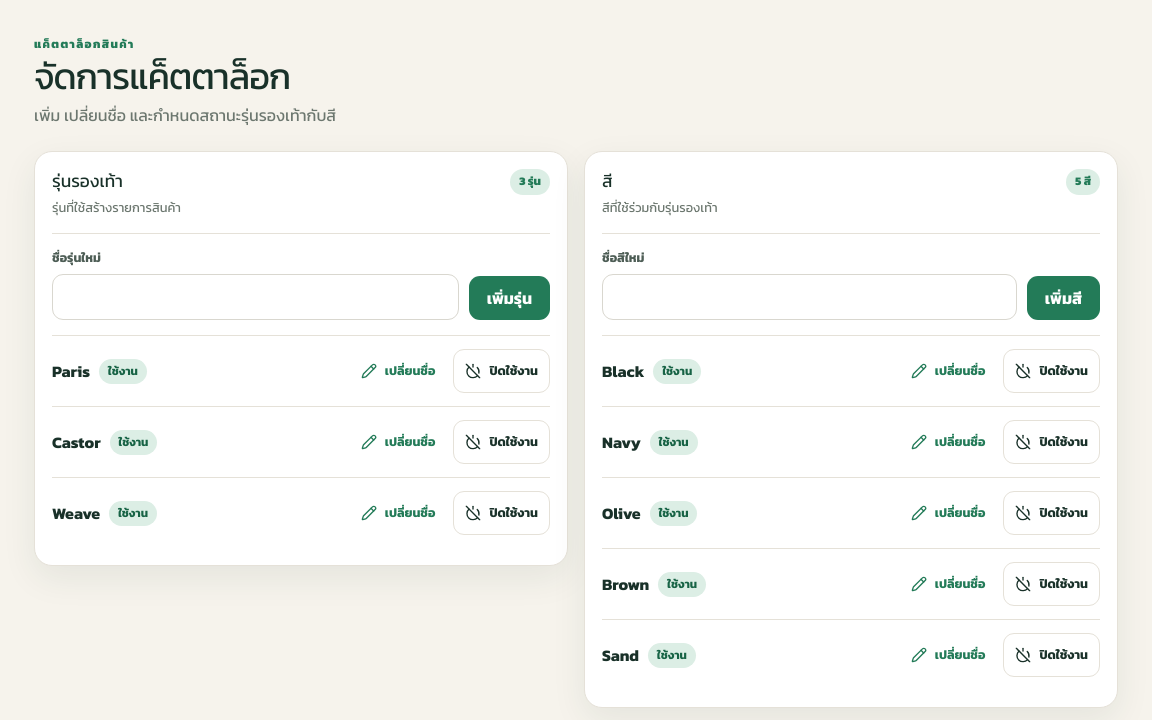
Test: CatalogPage › announces a failed deactivation as an error, keeps the confirmation open, and allows retry
Check: the text "Paris" is shown, box top-left (52, 359), bottom-right (90, 383)
Click the button with aria-label "ปิดใช้งานรุ่น Paris" at (502, 371), box top-left (454, 349), bottom-right (550, 393)
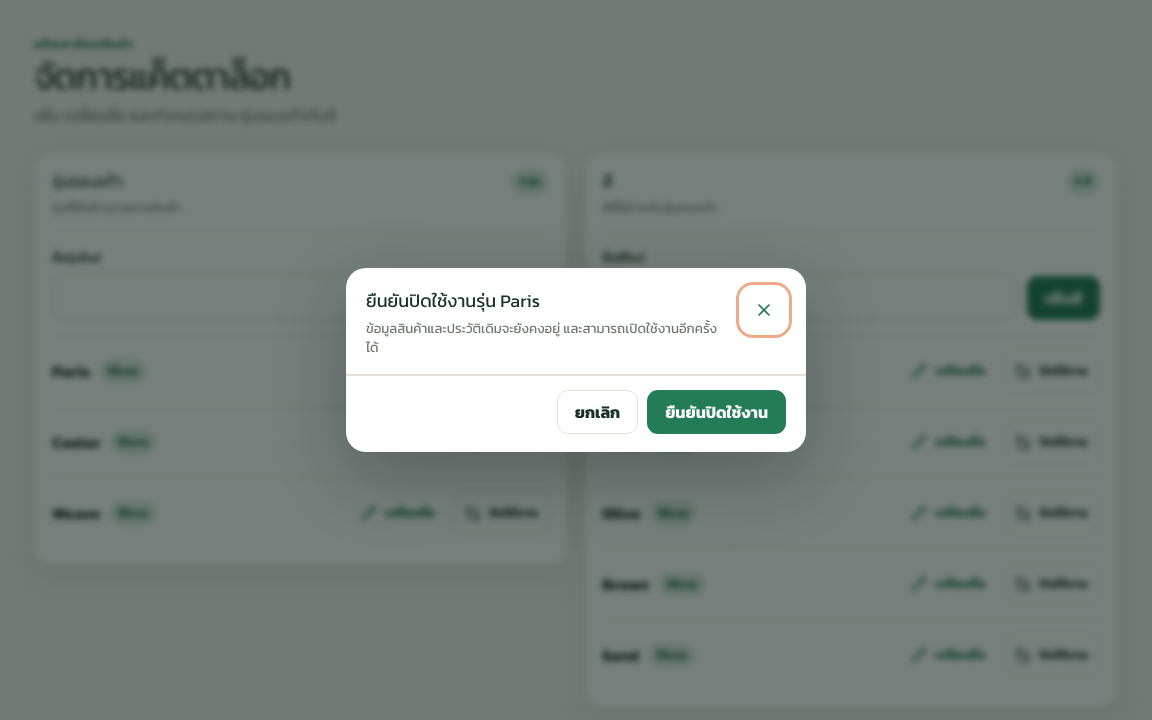
Click the button "ยืนยันปิดใช้งาน" at (717, 412), box top-left (647, 390), bottom-right (786, 434)
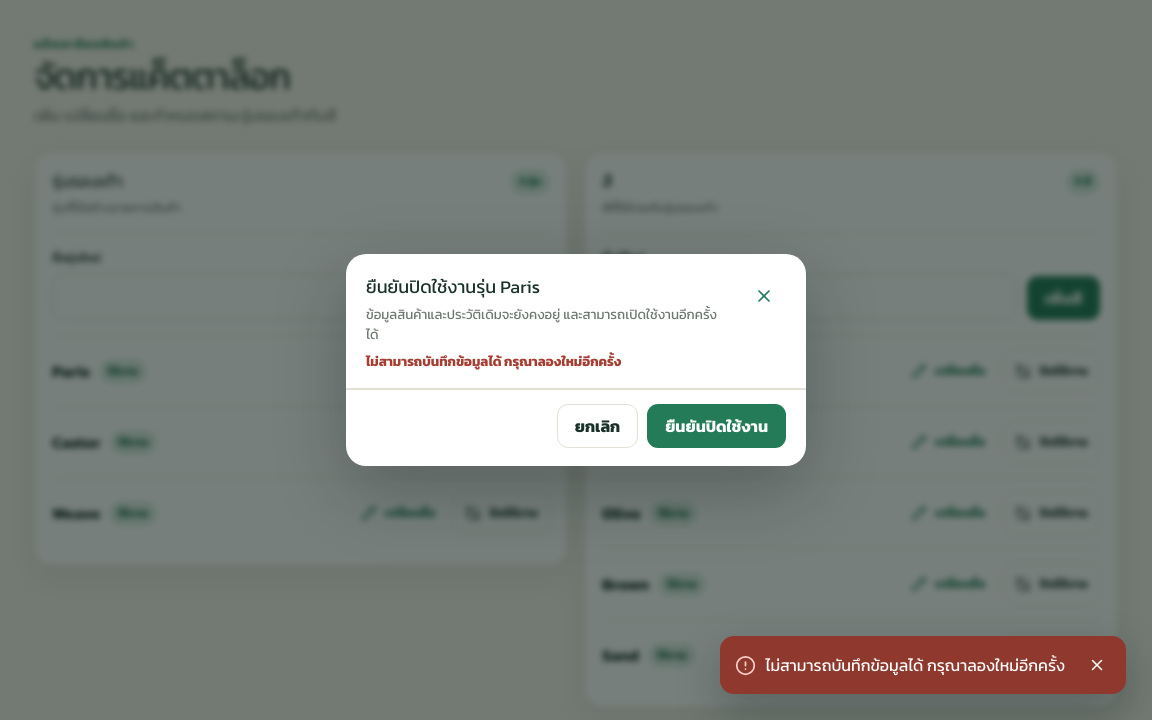
Check: the message named "เกิดข้อผิดพลาด" shows "ไม่สามารถบันทึกข้อมูลได้", box top-left (766, 653), bottom-right (1065, 677)
Check: the text "ไม่สามารถบันทึกข้อมูลได้ กรุณาลองใหม่อีกครั้ง" below "ยืนยันปิดใช้งานรุ่น Paris" is shown, box top-left (366, 351), bottom-right (621, 371)
Click the button "ยืนยันปิดใช้งาน" at (717, 426), box top-left (647, 404), bottom-right (786, 448)
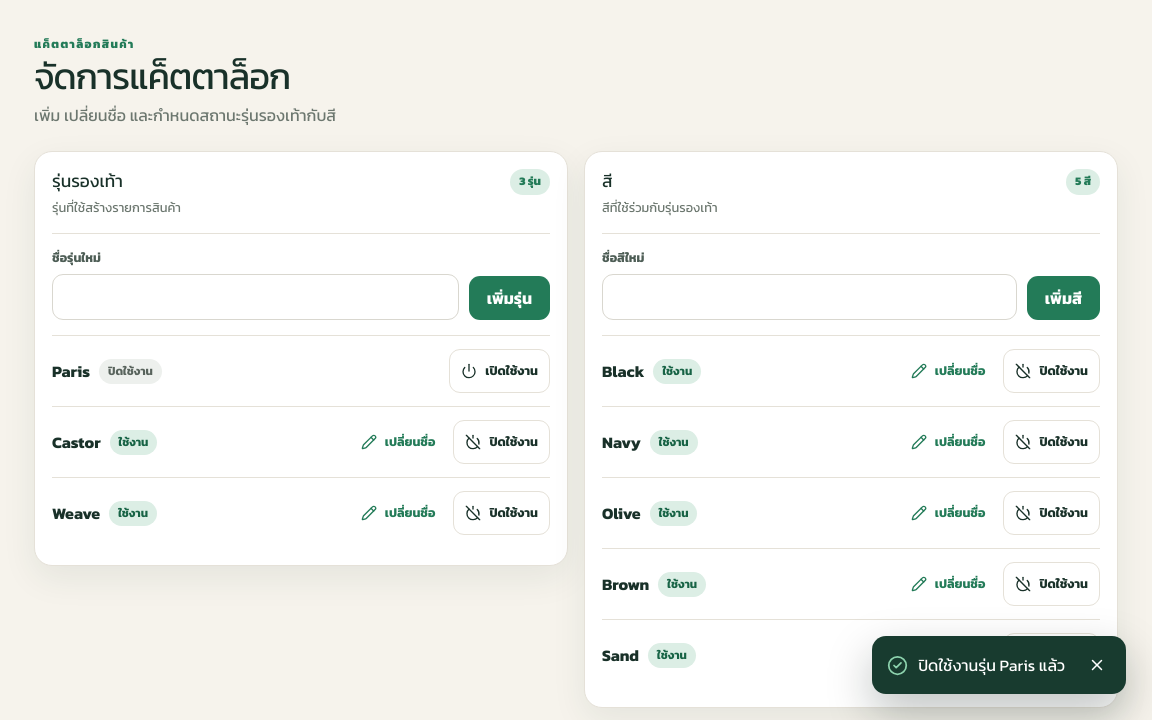
Check: the button with aria-label "เปิดใช้งานรุ่น Paris" is shown, box top-left (449, 349), bottom-right (550, 393)
Check: the message named "บันทึกสำเร็จ" reads "ปิดใช้งานรุ่น Paris แล้ว", box top-left (918, 653), bottom-right (1065, 677)
